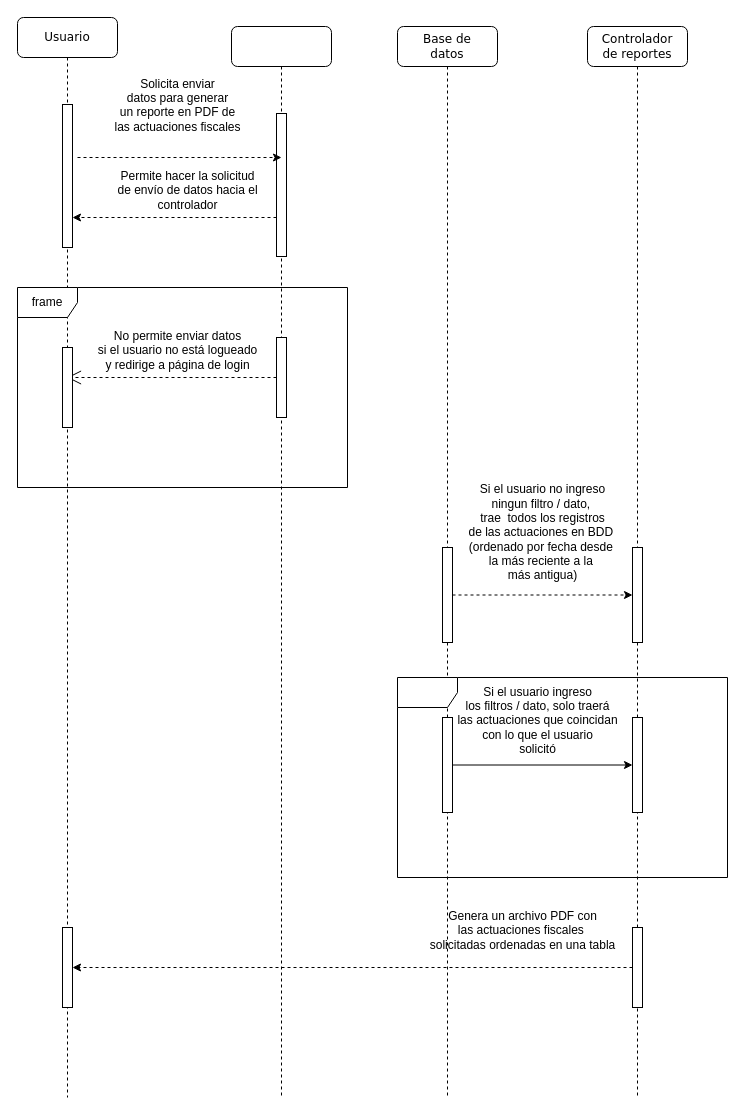
Image size: 745x1115. Some labels were removed from this diagram. The shapes that lost their labels are listed below. From the top down, each one's box as (x1, y1, x2, y2) in pixels, then its label:
(230, 26, 332, 1098): Middleware "Auth"
(396, 676, 728, 878): alt
